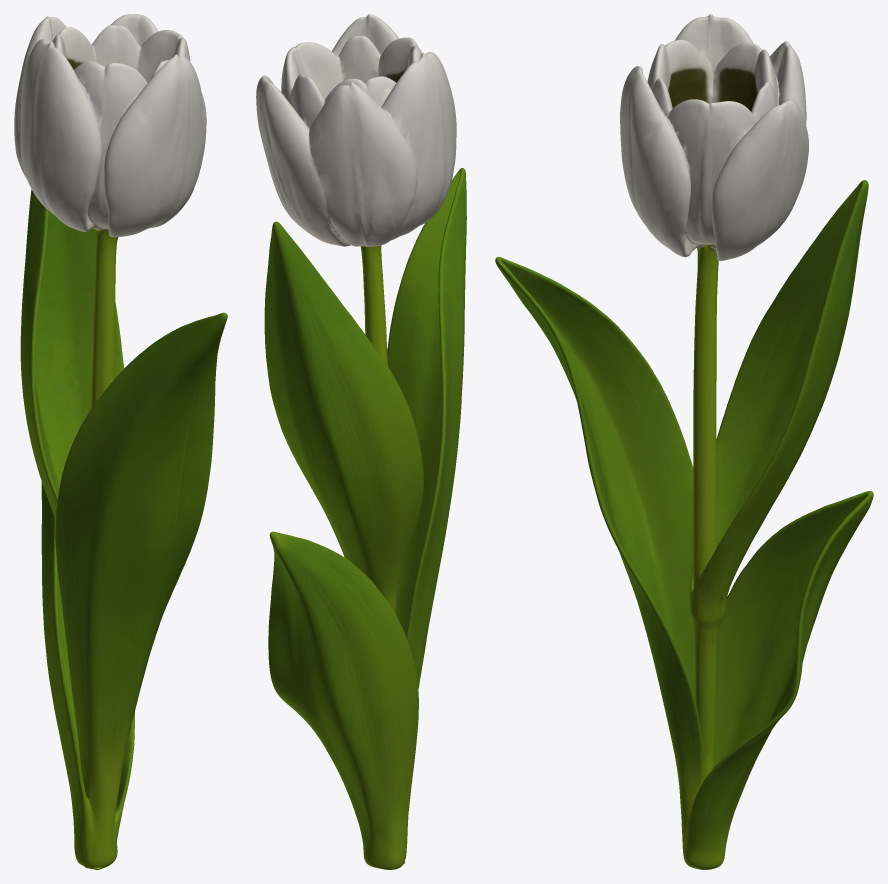
The model's file is Tulip White.glb.
3 views of the same model, side by side, from view 1: azimuth 30°, elevation 25°; view 2: azimuth 150°, elevation 25°; view 3: azimuth 270°, elevation 25° (orthographic).
Visible parts, largest first — view 1: tripo_node_66b0ea75-091e-49f4-b73e-a1ba464523b2; view 2: tripo_node_66b0ea75-091e-49f4-b73e-a1ba464523b2; view 3: tripo_node_66b0ea75-091e-49f4-b73e-a1ba464523b2.
Boxes of the visible parts, x1,y1,x2,y2 form: tripo_node_66b0ea75-091e-49f4-b73e-a1ba464523b2: (14, 14, 227, 869); tripo_node_66b0ea75-091e-49f4-b73e-a1ba464523b2: (256, 14, 466, 869); tripo_node_66b0ea75-091e-49f4-b73e-a1ba464523b2: (495, 14, 873, 869).
Size of the model in its own units: 0.2076 by 1 by 0.4135.
Materials: 1 (1 with a texture image).
